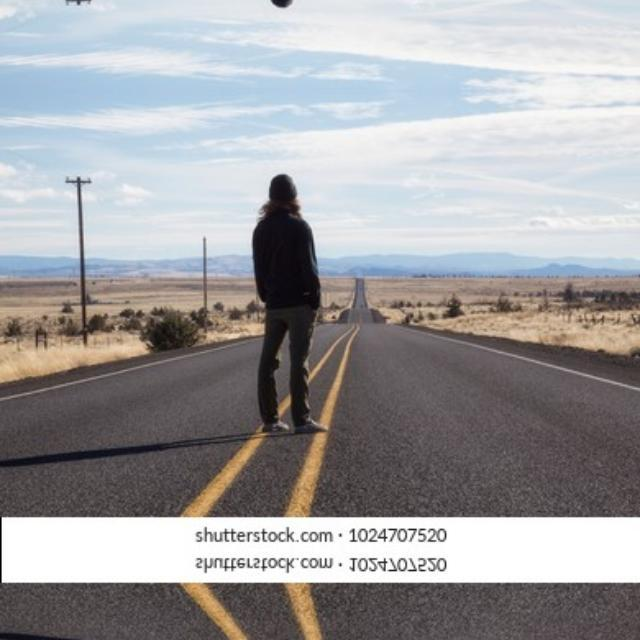person: (244, 168, 340, 448), (243, 0, 340, 12)
